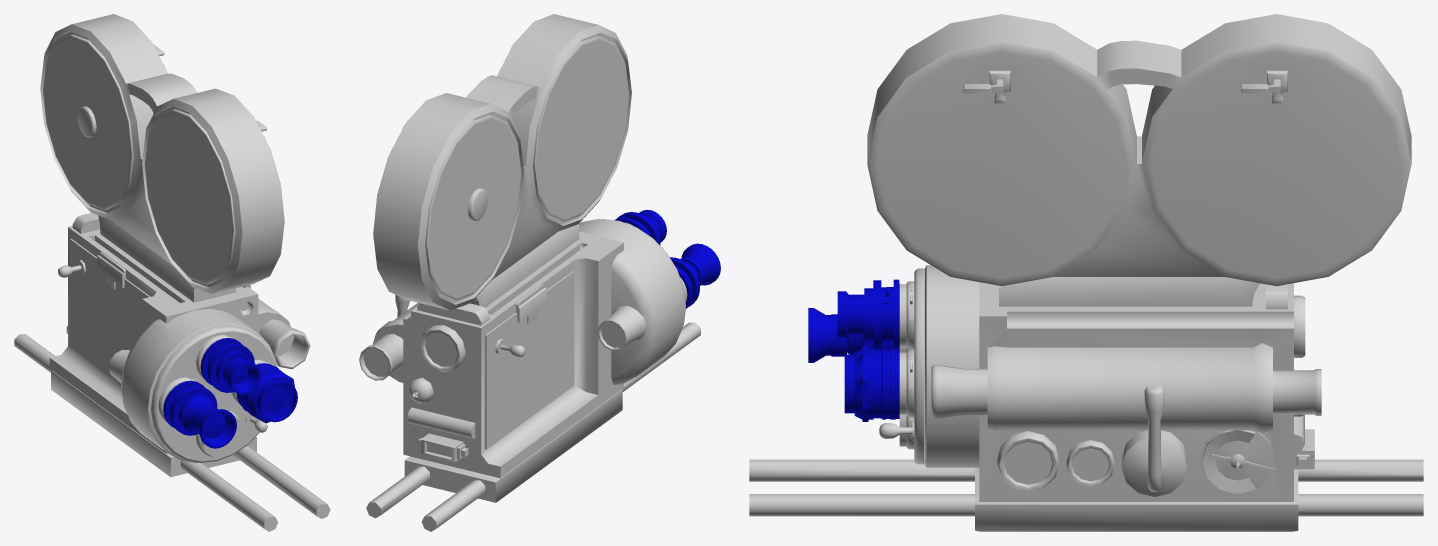
Rendered from Vintage Film Camera with Lens Set 01.fbx.
3 views of the same model, side by side, from view 1: azimuth 30°, elevation 25°; view 2: azimuth 150°, elevation 25°; view 3: azimuth 270°, elevation 25° (orthographic). The views are drawn at different scales.
Visible parts, largest first — view 1: Cube; view 2: Cube; view 3: Cube.
Part boxes in pixels (left/top/right/bottom): Cube: left=14, top=14, right=330, bottom=531; Cube: left=359, top=14, right=720, bottom=531; Cube: left=749, top=14, right=1423, bottom=531.
Bounding box in the file's own units: 39.92 × 72.52 × 91.73.
